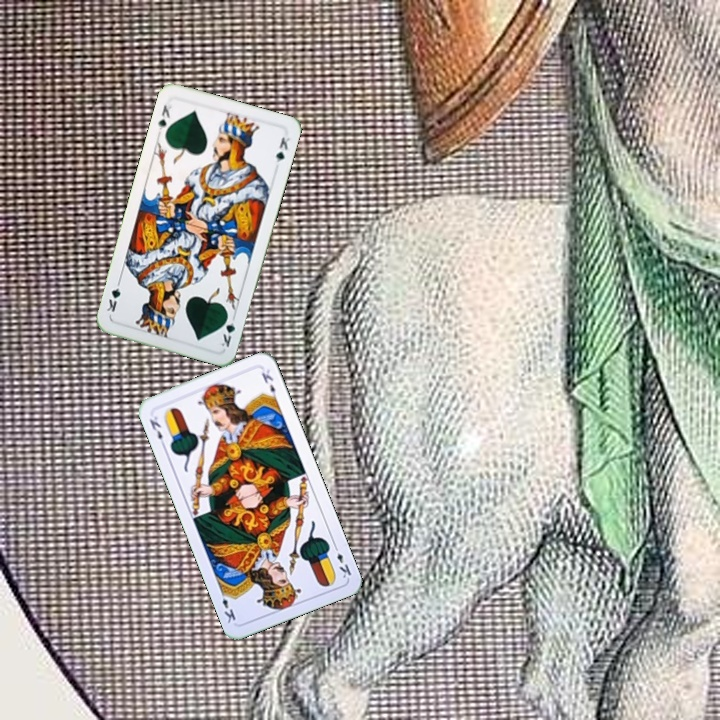EK: (330, 541, 354, 581), (145, 412, 168, 450)
GK: (217, 310, 238, 350), (154, 100, 175, 136)
